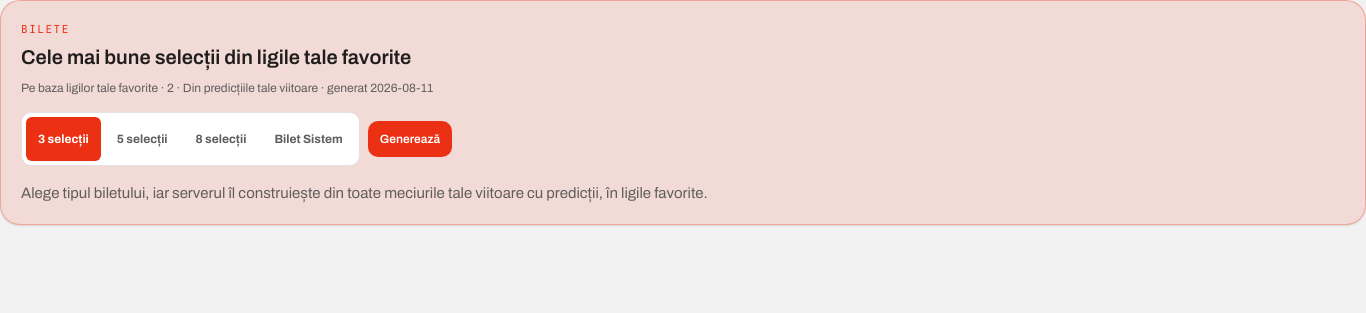
Test: GlobalSpecialBetSection › states an unavailable variant explicitly and never pads it
Click the button "Generează" at (410, 138), box left=368, top=120, right=452, bottom=156
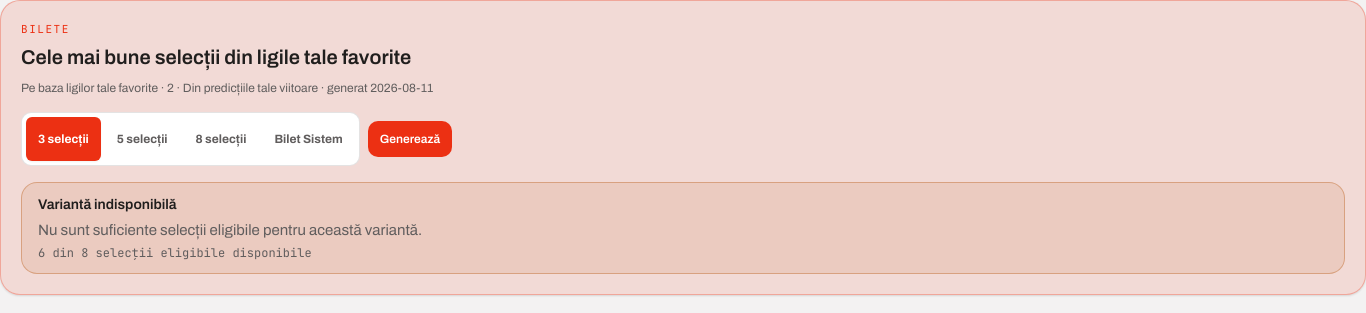
Check: the text "Nu sunt suficiente selecții eligibile pentru această variantă." is shown, box left=38, top=222, right=422, bottom=238
Check: the text "6 din 8 selecții eligibile disponibile" is shown, box left=38, top=245, right=312, bottom=261
